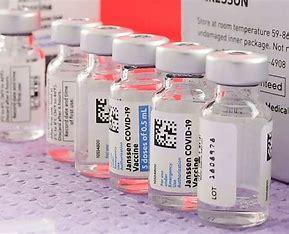Syringe: (198, 46, 273, 228), (148, 38, 203, 213), (104, 24, 159, 197), (2, 9, 48, 144)
